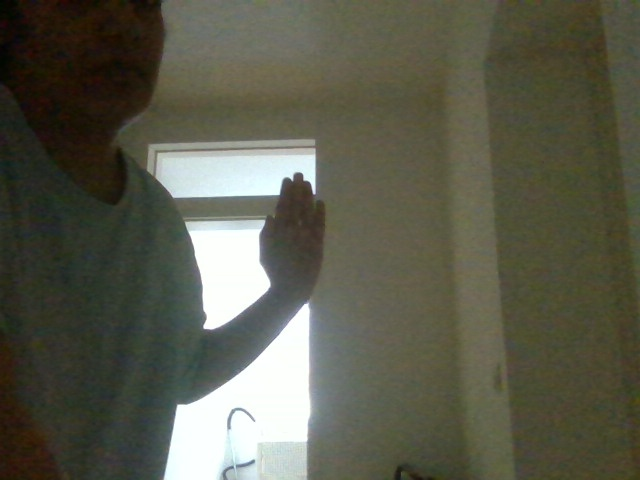Palm: (252, 166, 336, 302)
